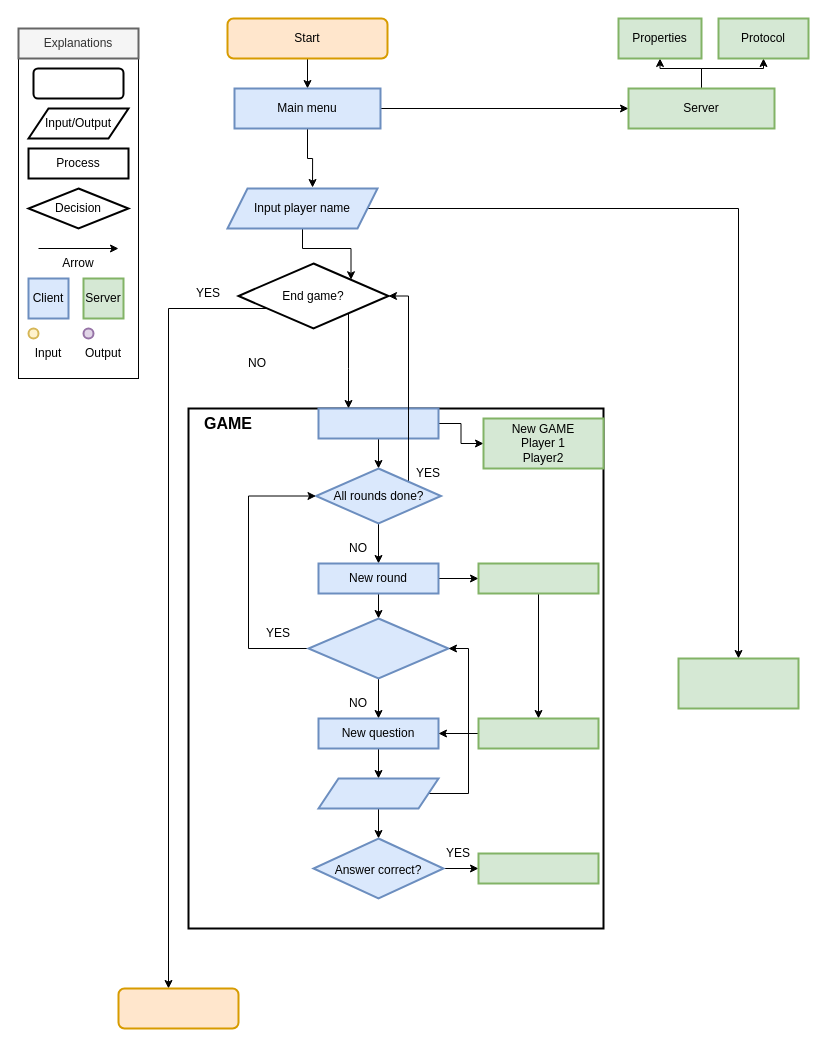
The diagram is 826 pixels wide and 1046 high, and some of its shapes have lost their labels. The centre of each missing label's shape, as x and y in pixels:
Add score to player: (538,868)
Exit application: (178,1008)
Input answer: (378,793)
Is round over?: (378,648)
New game: (378,423)
New PLAYER String name int score = 0: (738,683)
New round Random category: (538,578)
Random Q within category: (538,733)
Start/End: (78,83)
